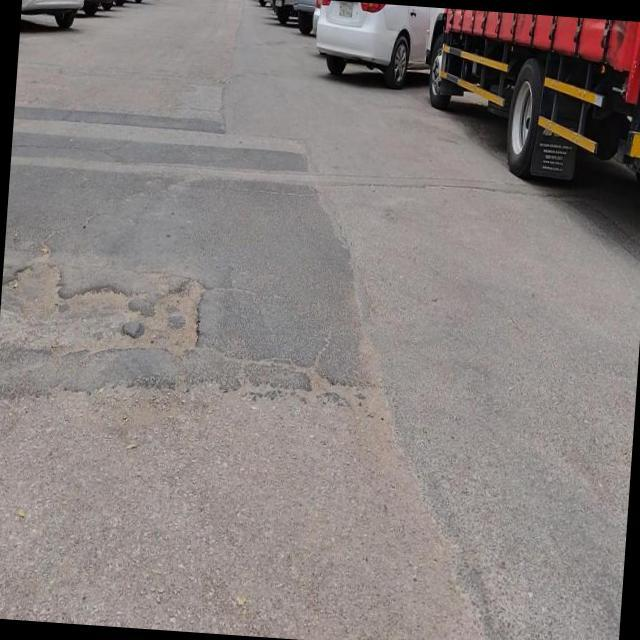Pothole: (121, 274, 210, 360), (52, 280, 130, 359)
